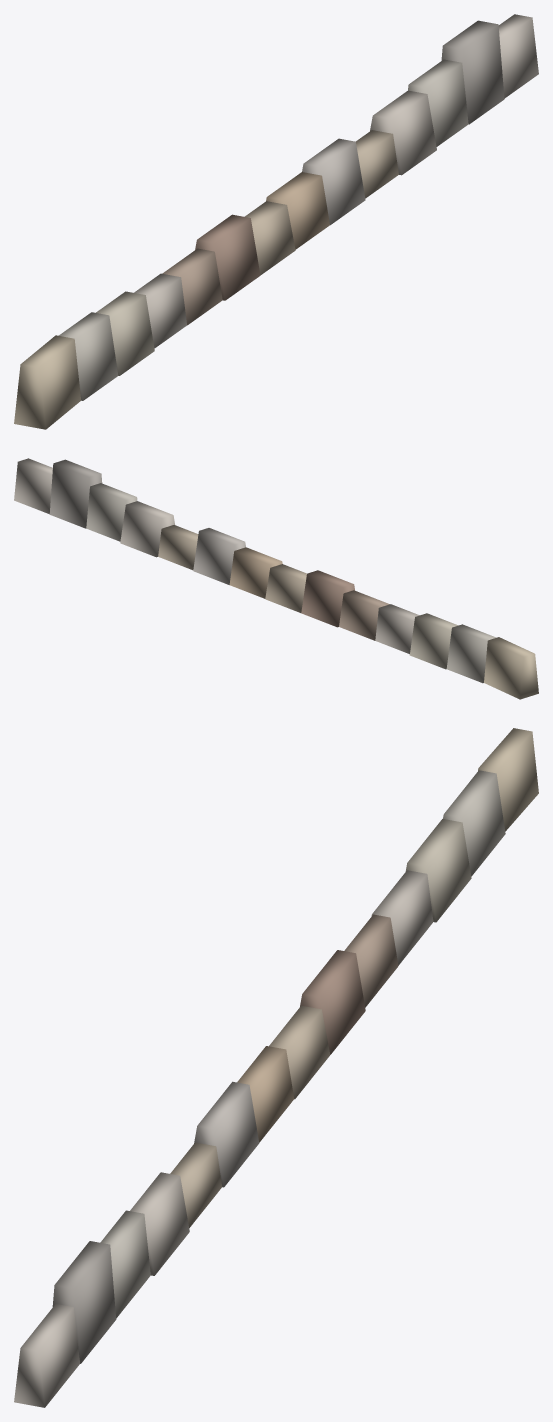
Rendered from farm_-20_-27_collision.glb.
3 renders of one model, top to bottom at view 1: azimuth 90°, elevation 25°; view 2: azimuth 150°, elevation 25°; view 3: azimuth 270°, elevation 25°, orthographic. The views are drawn at different scales.
Parts seen in each view (by area): view 1: geometry_0; view 2: geometry_0; view 3: geometry_0.
Part boxes in pixels (x1,y1,x2,y2): geometry_0: (14, 14, 538, 429); geometry_0: (14, 458, 538, 699); geometry_0: (14, 728, 538, 1407).
Bounding box in the file's own units: 20.57 × 3.72 × 9.3.
